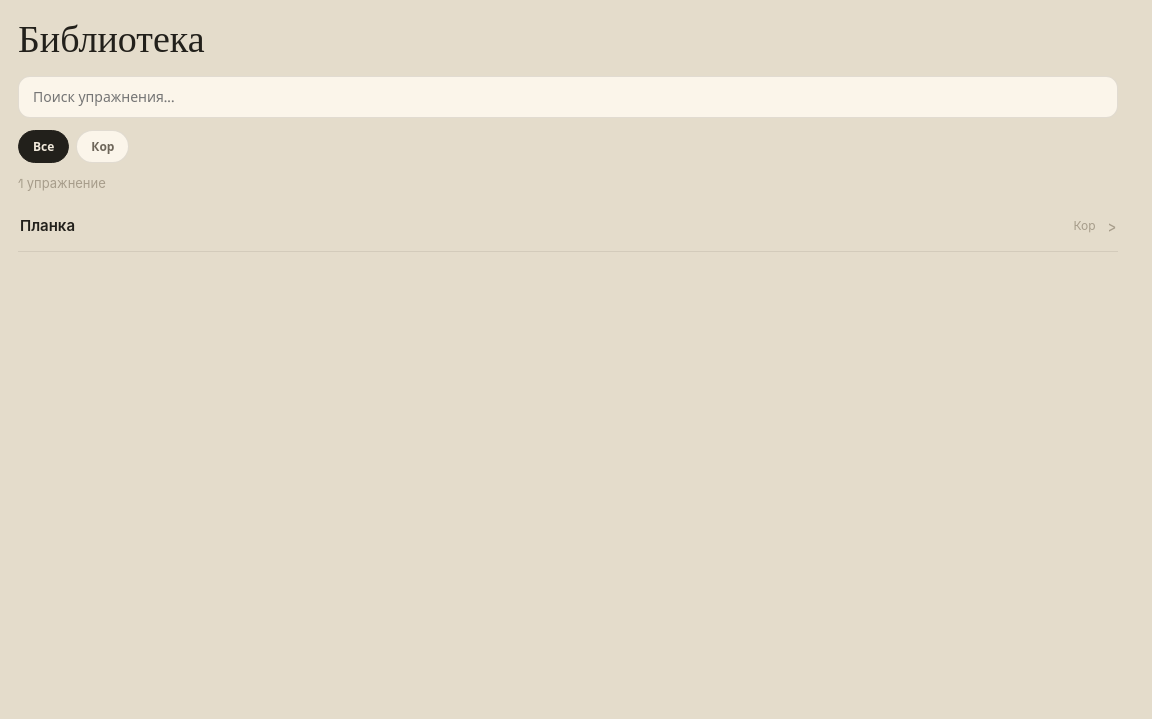
Test: ExerciseLibraryScreen › removes bodyweight recommendation text from the exercise guide header
Click the button with aria-label "Открыть Планка" at (48, 226), box [18,200,1118,252]
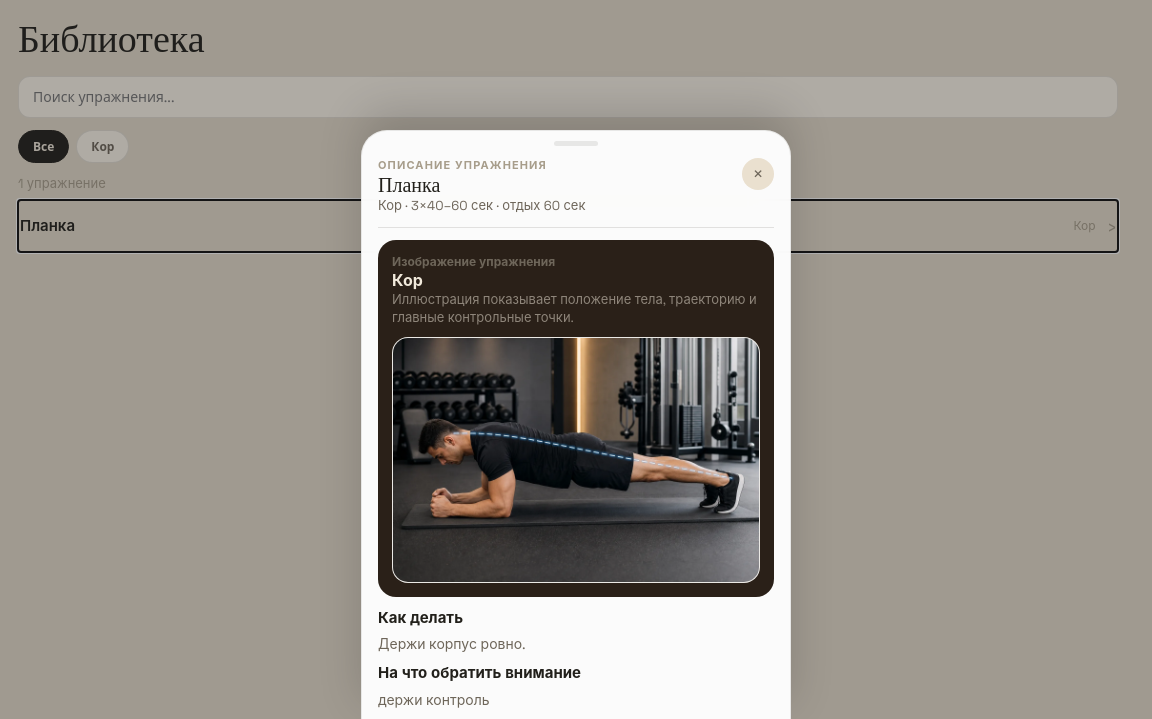
Expected: the text "Кор · 3×40–60 сек · отдых 60 сек" is shown, [378,197,586,215]
